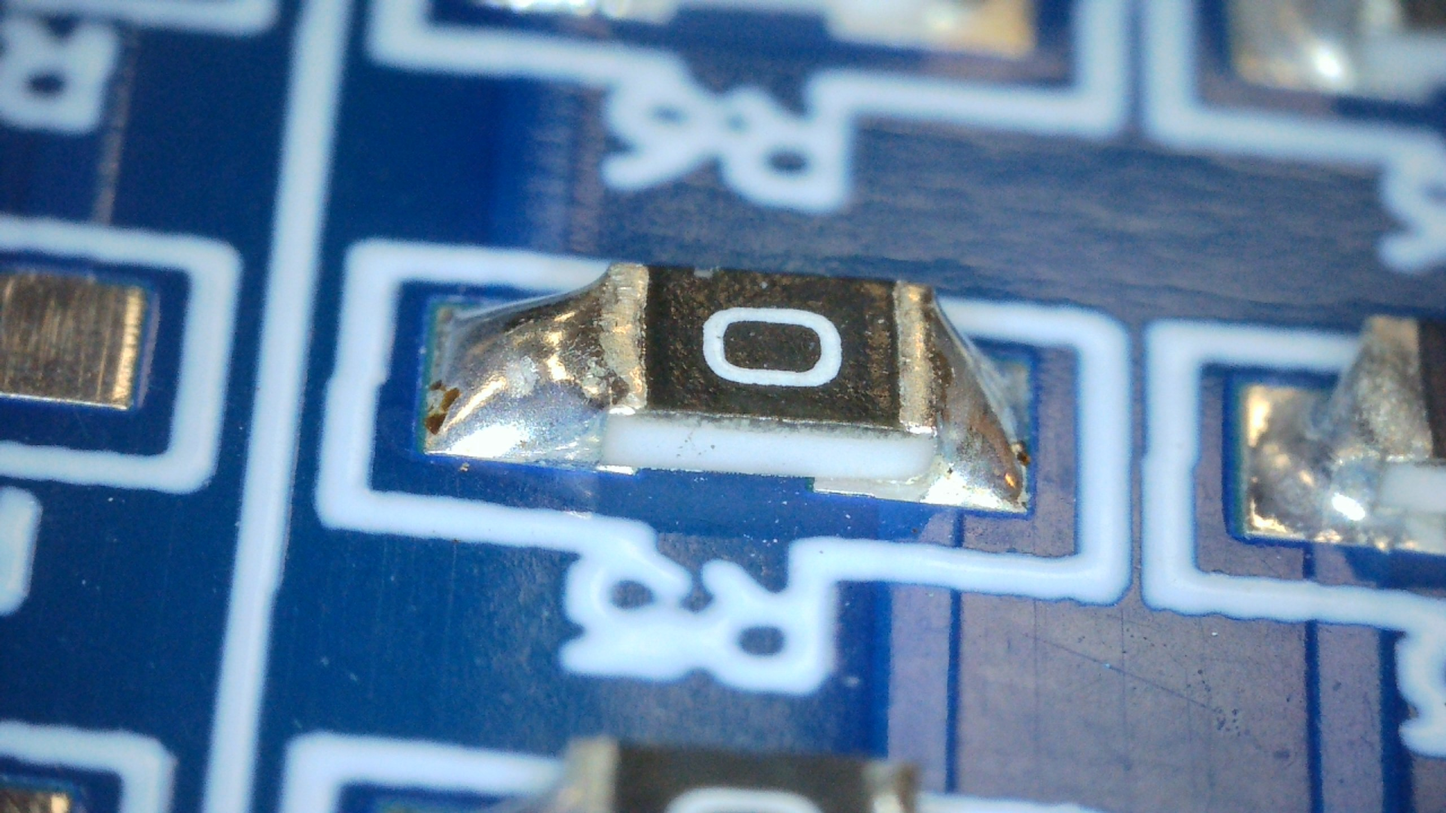NG: (440, 263, 646, 462), (897, 283, 1025, 505)
